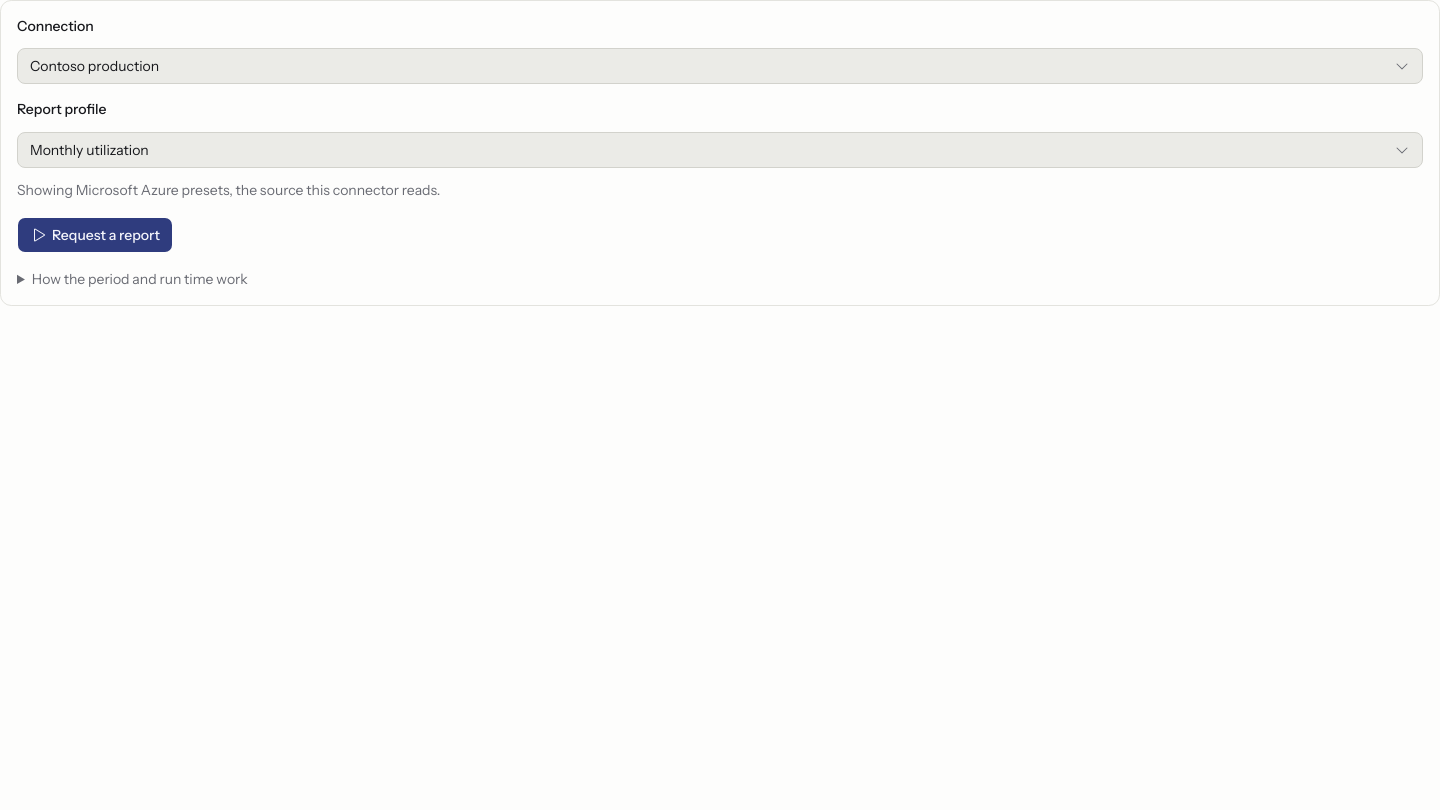
RunForm — the controls name things, not identify them › the chosen name follows the selection
This screenshot has width=1440, height=810.
Click the dropdown named "Report profile" at (89, 150), box [17,132,1423,168]
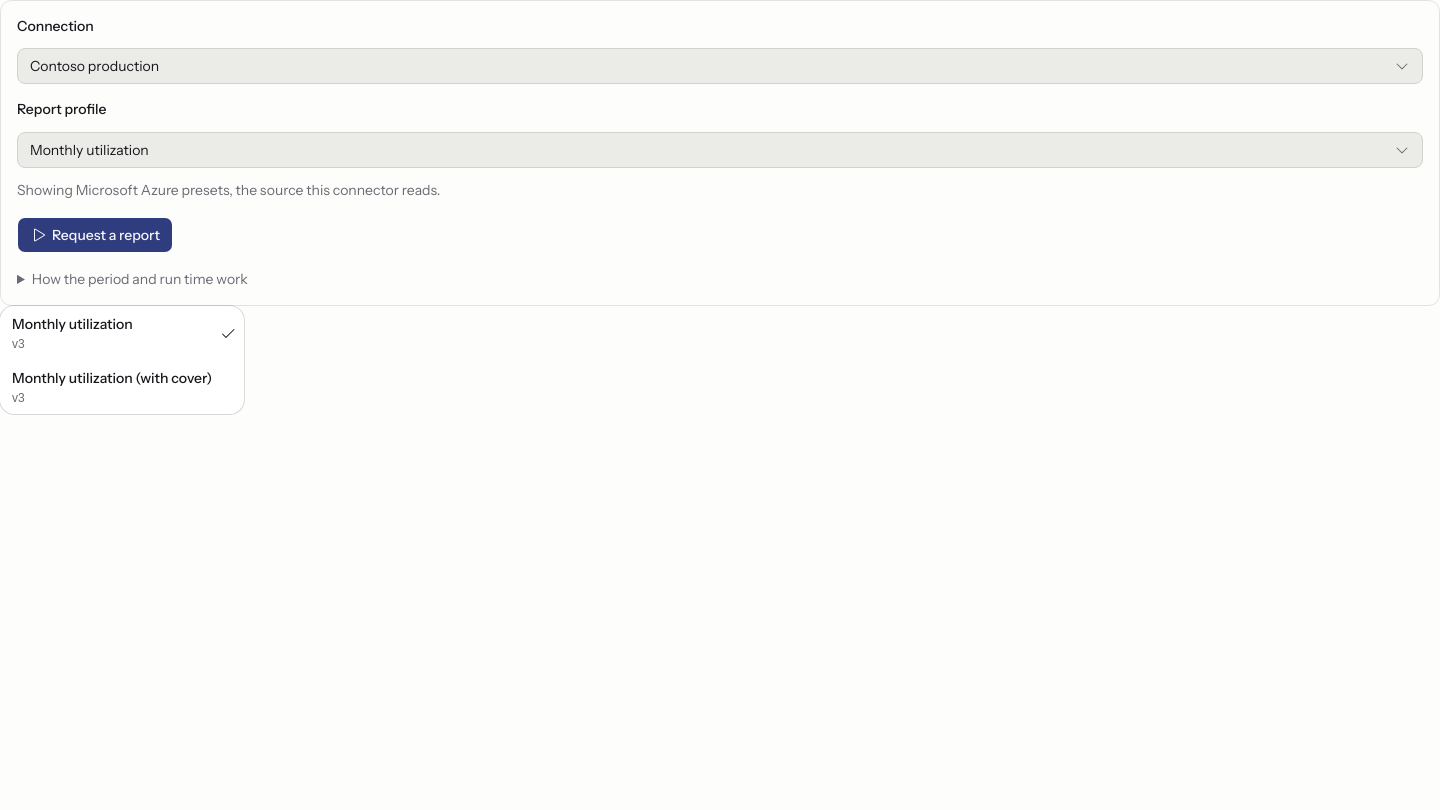
Press Enter in the option "Monthly utilization (with cover) v3", box [12,368,212,404]
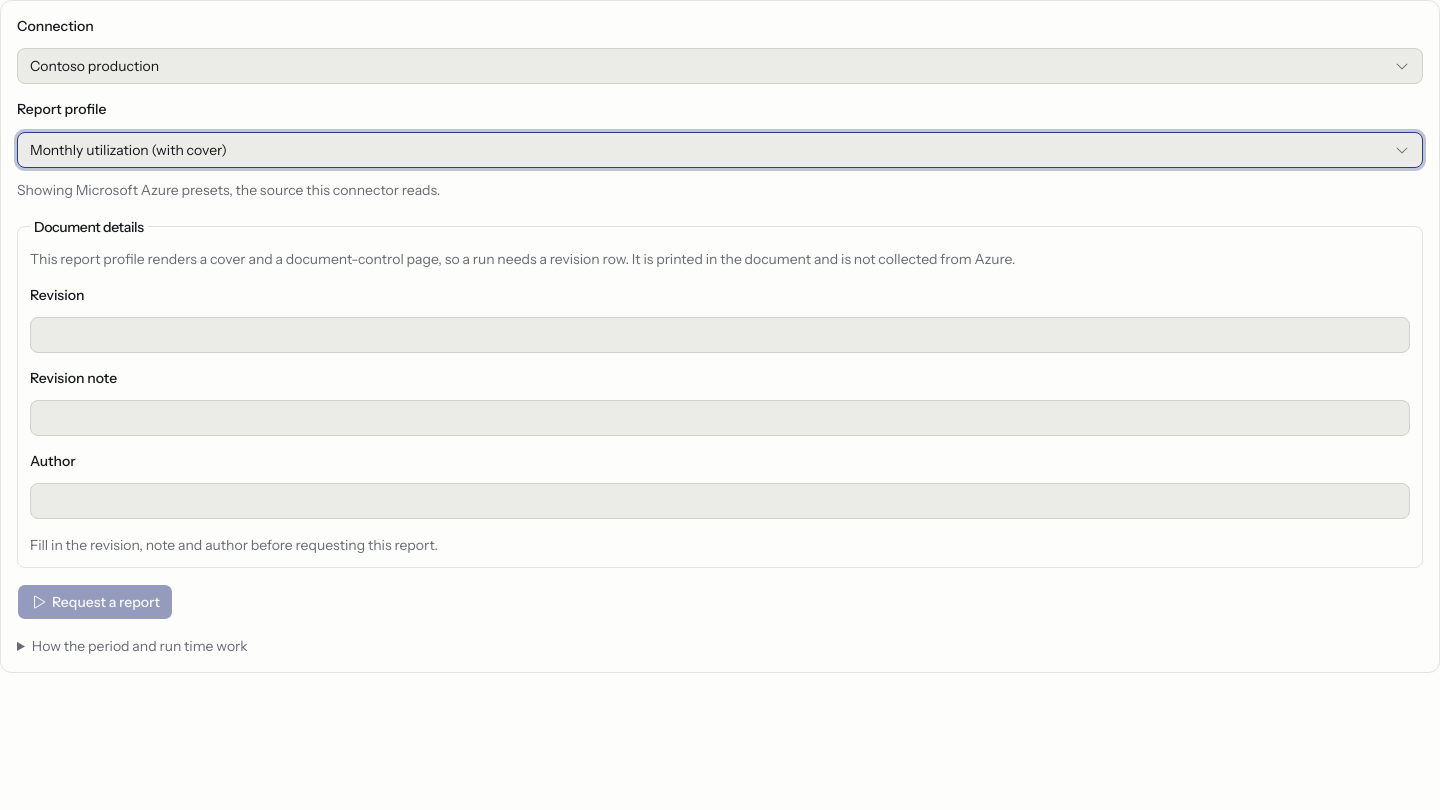
Expected: the dropdown named "Report profile" shows "Monthly utilization (with cover)", [17,132,1423,168]
